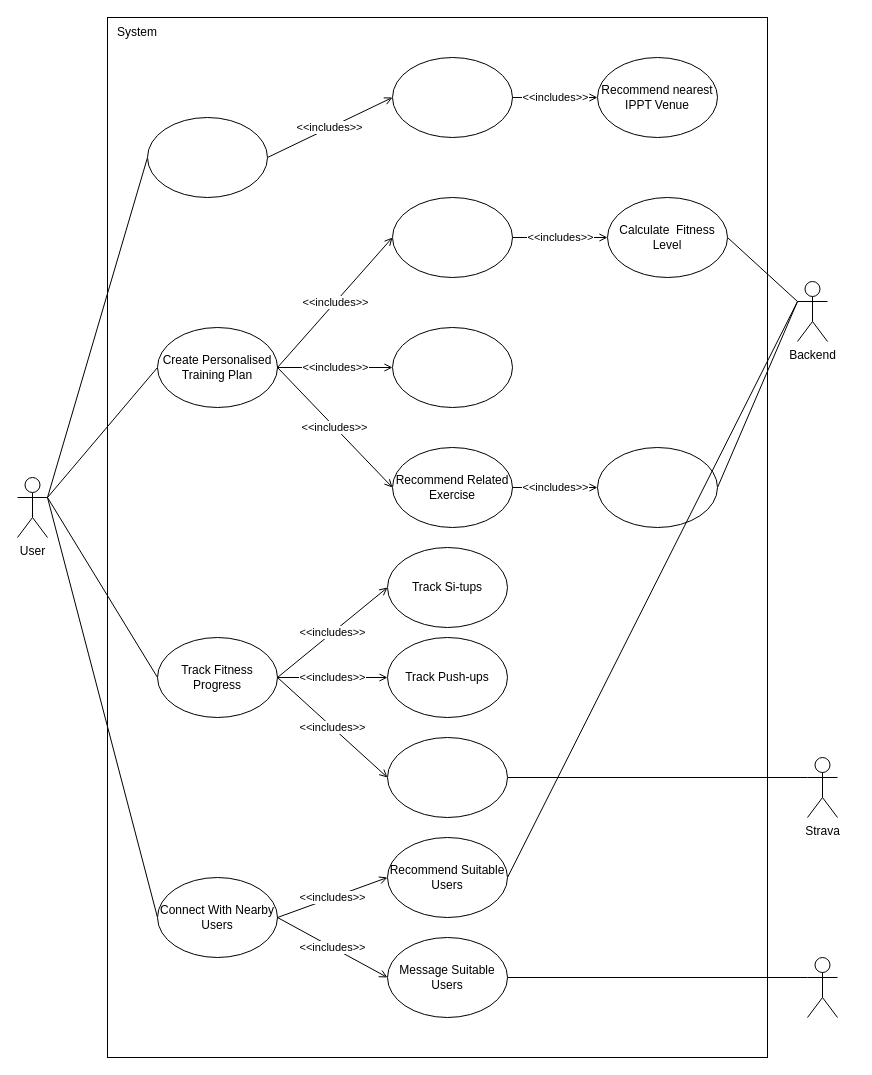
The diagram is 872 pixels wide and 1075 high, and some of its shapes have lost their labels. The shapes that lost their labels are listed below. From the top down, each one's centre as x and y in pixels, then its label:
At (x=452, y=97): "Input Personal Details".
At (x=207, y=157): "Input Profile Information".
At (x=452, y=237): "Input Fitness Ability".
At (x=452, y=367): "Recommend Daily Training".
At (x=657, y=487): "Recommend Nearby Exercise Venue".
At (x=447, y=777): "Track 2.4km".
At (x=822, y=987): "Other Users".
